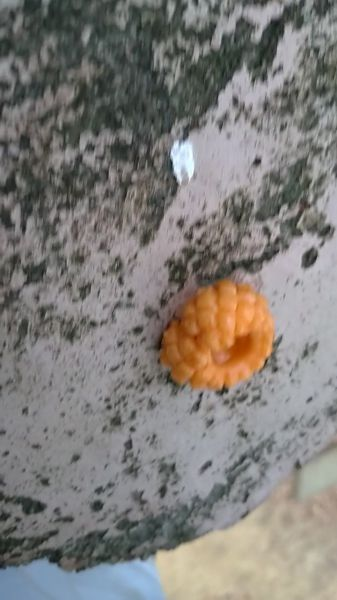eggs: (159, 276, 279, 393)
